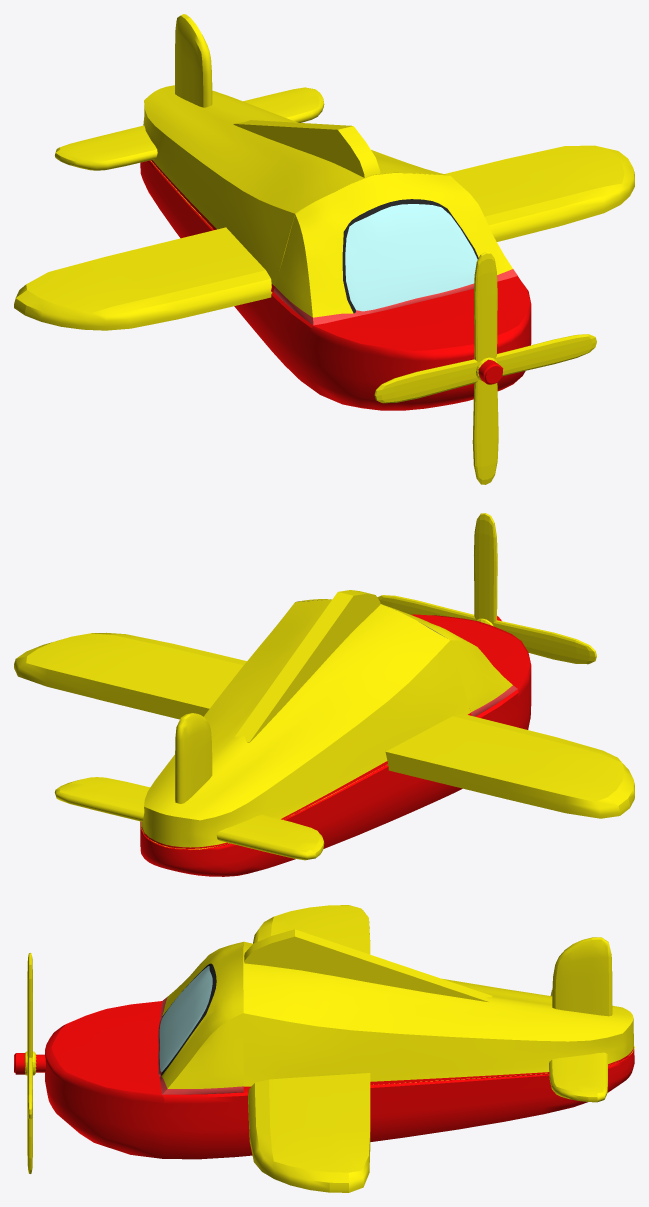
The model's file is skin3.fbx.
3 views of the same model, one above another, from view 1: azimuth 30°, elevation 25°; view 2: azimuth 150°, elevation 25°; view 3: azimuth 270°, elevation 25° (orthographic). The views are drawn at different scales.
Parts seen in each view (by area): view 1: Cube, Cylinder; view 2: Cube, Cylinder; view 3: Cube, Cylinder.
Boxes of the visible parts, bbox=[...] form: Cube: bbox=[14, 14, 634, 410]; Cylinder: bbox=[374, 252, 596, 484]; Cube: bbox=[14, 590, 634, 876]; Cylinder: bbox=[377, 513, 596, 664]; Cube: bbox=[14, 905, 634, 1192]; Cylinder: bbox=[25, 953, 36, 1173].
Bounding box in the file's own units: 537 × 216 × 505.
